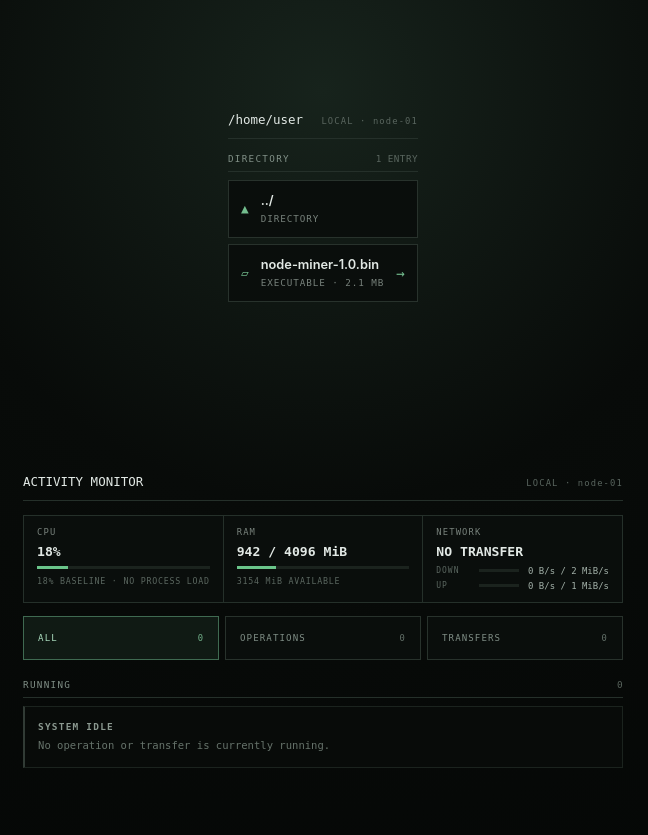
Files NODE Miner RUN › prefills the represented NODE Wallet address and RUN starts a real continuous Process, showing immediate feedback derived from canonical runtime
The width and height of the screenshot is (648, 835).
What coordinates should you click on to do the following:
click the button "▱ node-miner-1.0.bin EXECUTABLE · 2.1 MB →"
I would click on:
 (323, 273)
Its box is top-left (228, 244), bottom-right (418, 302).
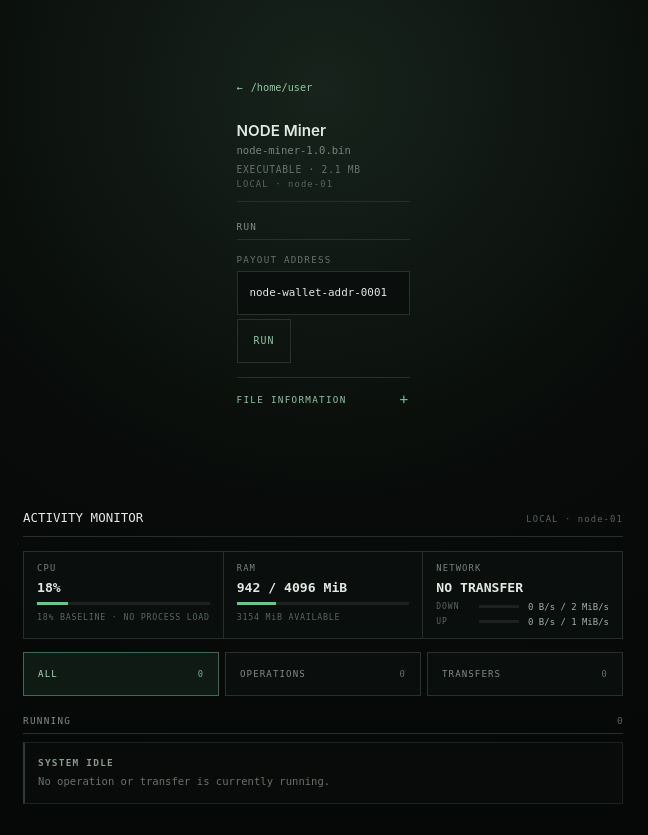
Expected: the heading "NODE Miner" is shown, top-left (236, 121), bottom-right (326, 140)
Expected: the field named "NODE payout address" holds "node-wallet-addr-0001", top-left (236, 271), bottom-right (410, 315)
What coordinates should you click on to do the following:
click the button "RUN"
I would click on:
 (264, 341)
Its box is top-left (236, 319), bottom-right (291, 363).
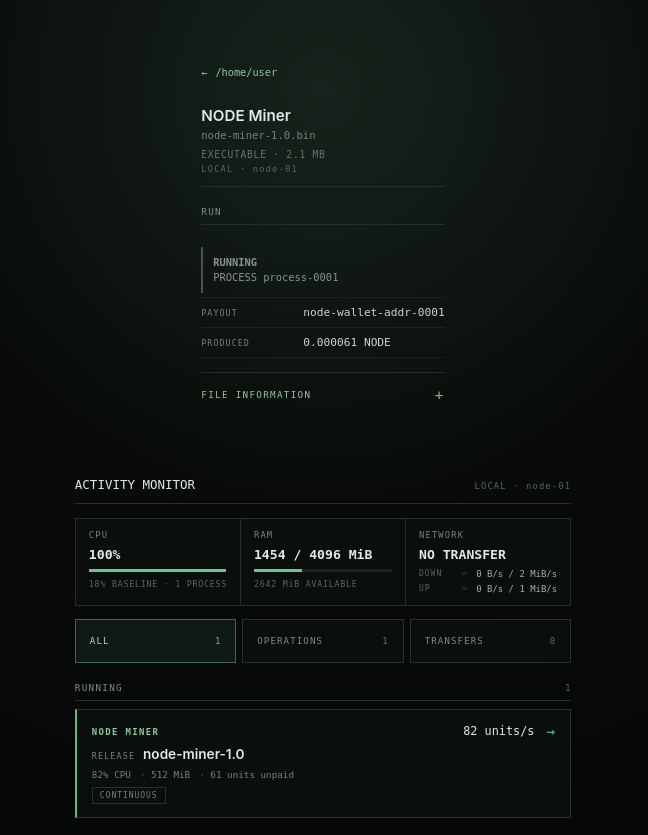
Expected: the text "RUNNING" below "EXECUTABLE" is shown, top-left (213, 256), bottom-right (257, 268)
Expected: the text "RUNNINGPROCESS process-0001" is shown, top-left (201, 247), bottom-right (445, 293)
